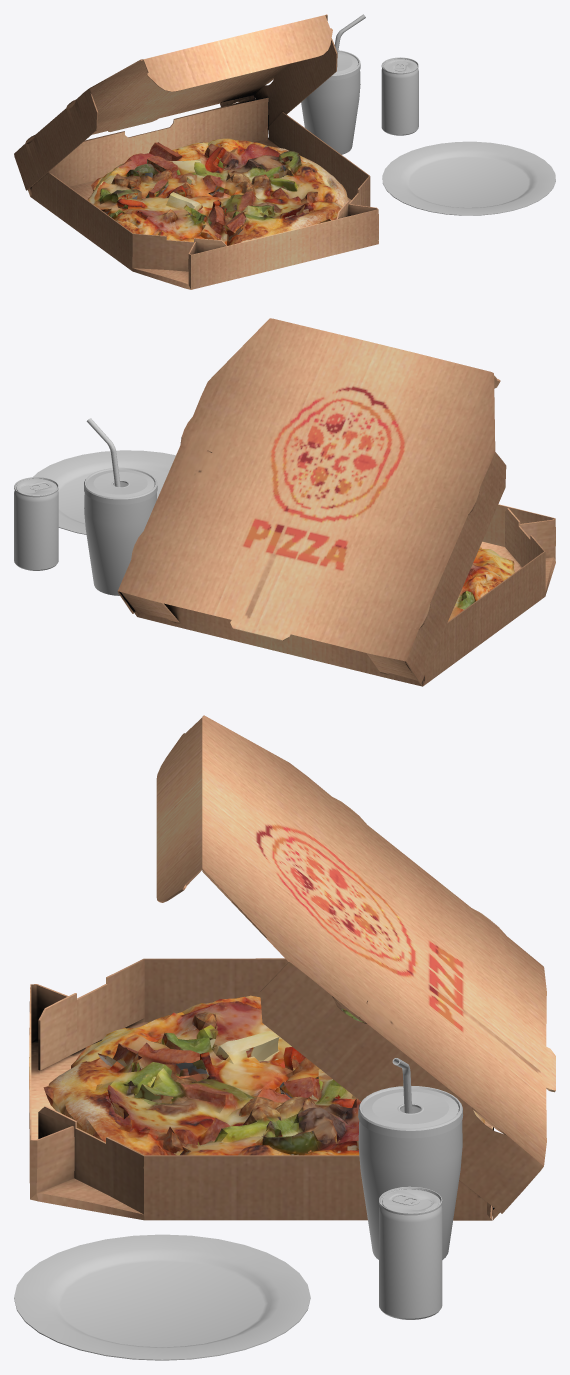
File: Dining Table.fbx
3 renders of one model, top to bottom at view 1: azimuth 30°, elevation 25°; view 2: azimuth 150°, elevation 25°; view 3: azimuth 270°, elevation 25°, orthographic. The views are drawn at different scales.
Parts seen in each view (by area): view 1: Pizza Box, Pizza, Plate, Cup, Can; view 2: Pizza Box, Cup, Plate, Can, Pizza; view 3: Pizza Box, Pizza, Plate, Cup, Can.
Boxes of the visible parts, x1,y1,x2,y2 form: Pizza Box: (14, 14, 378, 289); Pizza: (87, 138, 347, 245); Plate: (382, 141, 555, 215); Cup: (301, 14, 365, 154); Can: (381, 57, 418, 135); Pizza Box: (117, 318, 555, 686); Cup: (84, 418, 157, 595); Plate: (33, 450, 175, 534); Can: (14, 477, 58, 570); Pizza: (448, 546, 514, 621); Pizza Box: (29, 715, 555, 1220); Pizza: (43, 995, 484, 1155); Plate: (14, 1234, 310, 1360); Cup: (358, 1058, 463, 1259); Can: (379, 1186, 442, 1319).
Bounding box in the file's own units: 108 × 47.54 × 70.74.
